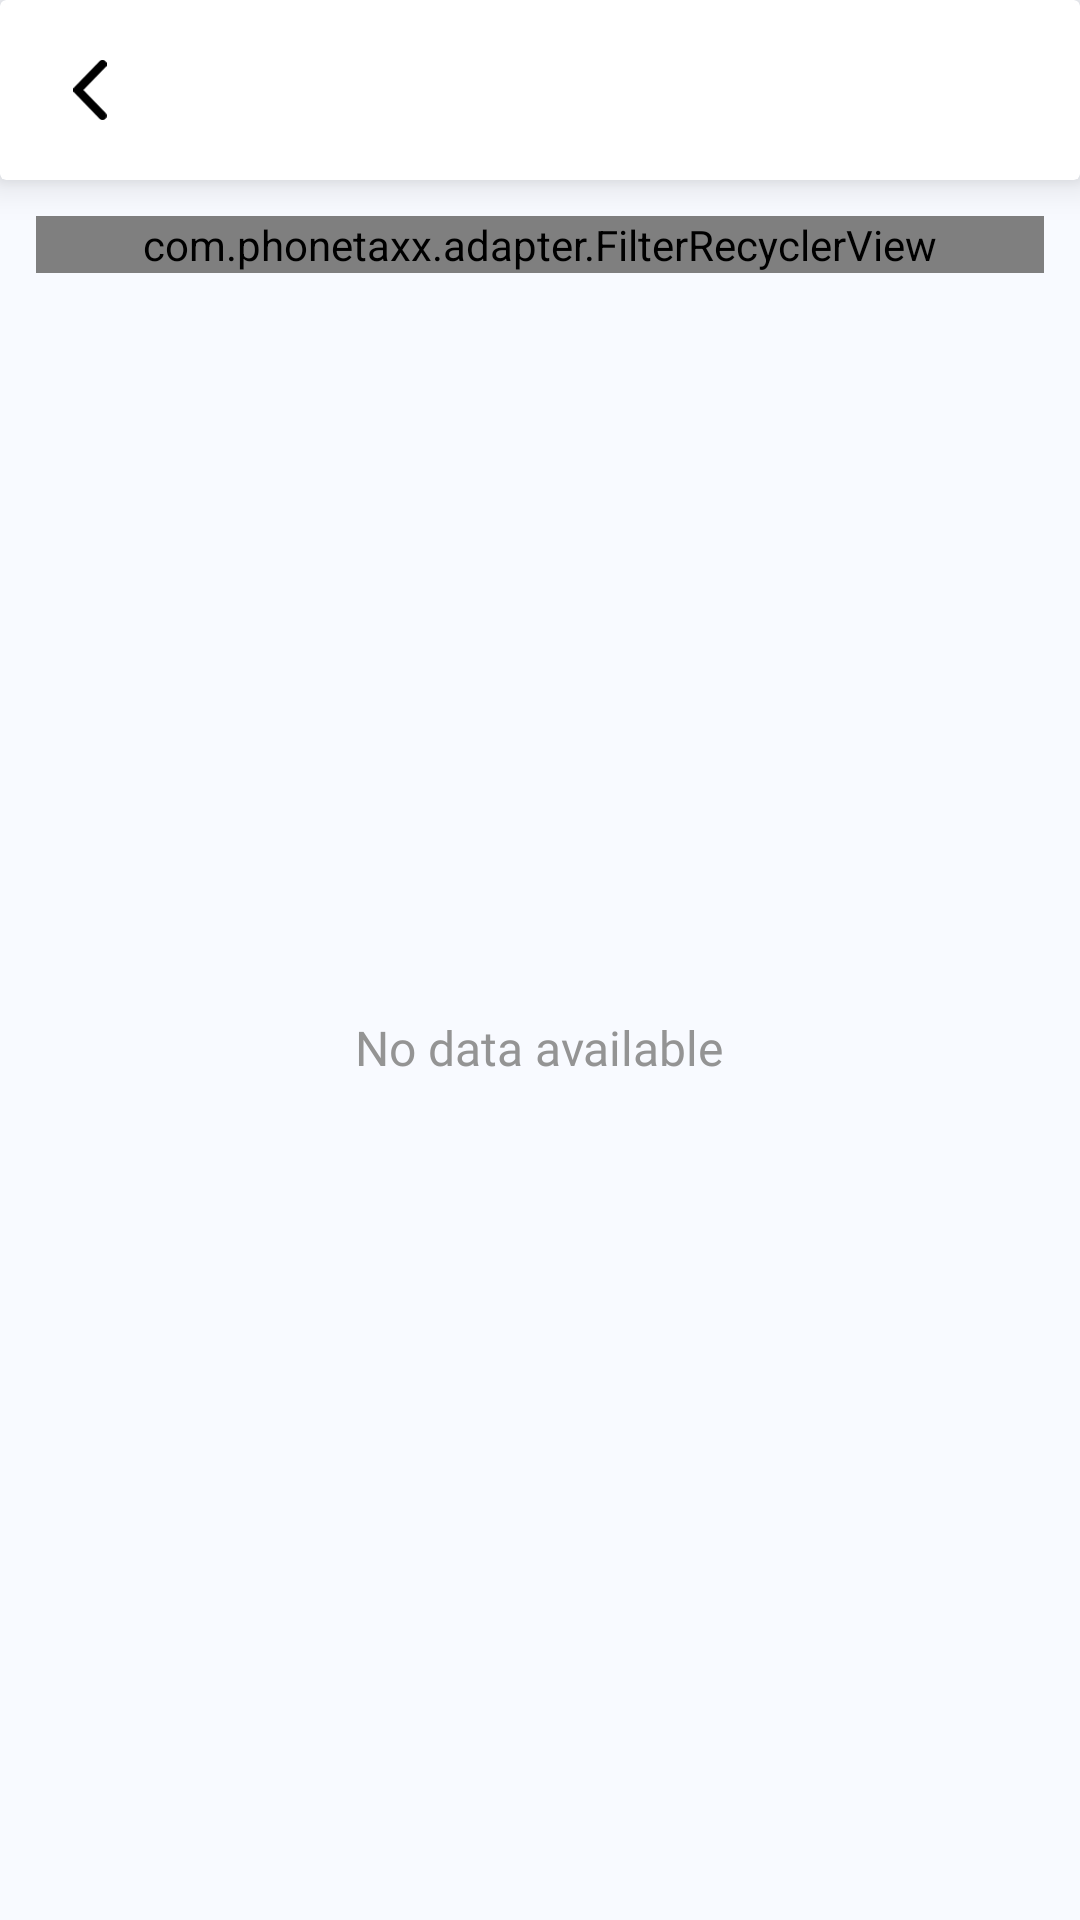

Where to tap for icons on this 1080×1920 app screen, as [x,y]:
back: [90,90]
